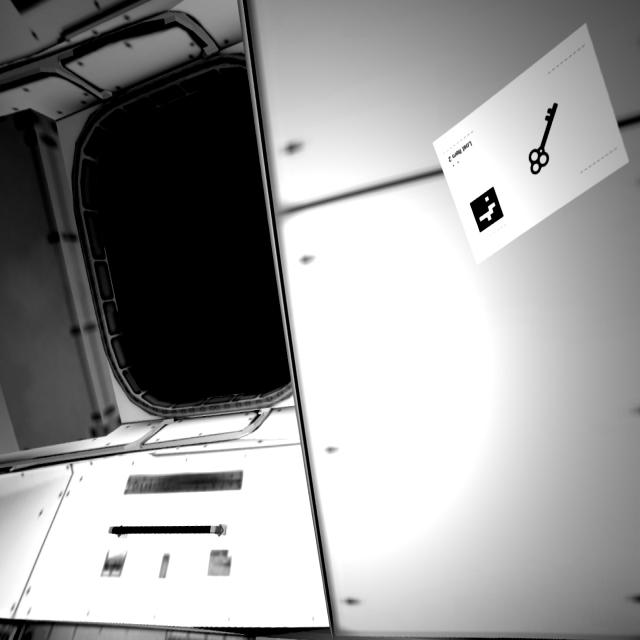key: (519, 99, 566, 186)
